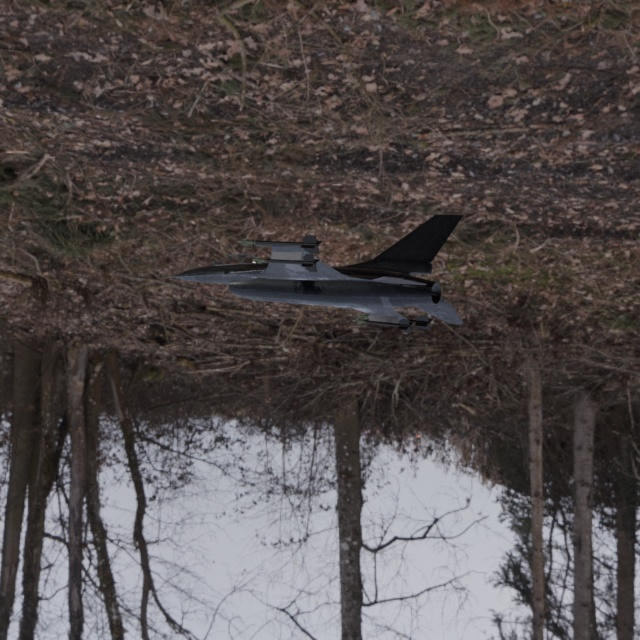model: (92, 162, 506, 351)
